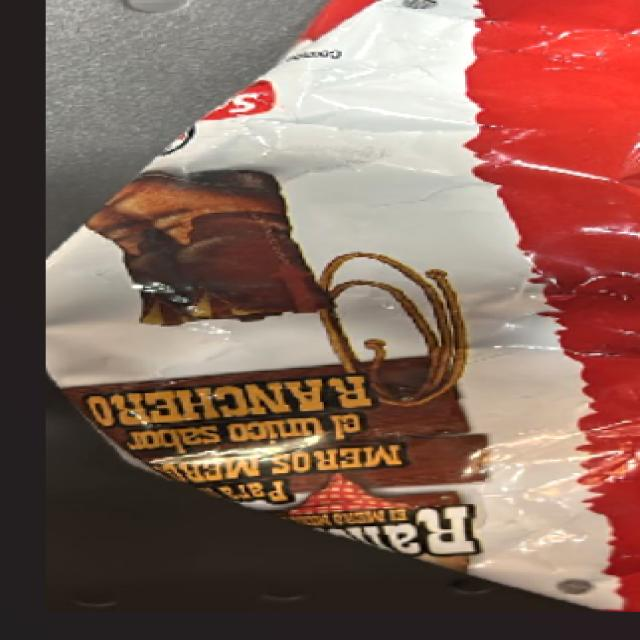productoAtras: (127, 110, 597, 552)
